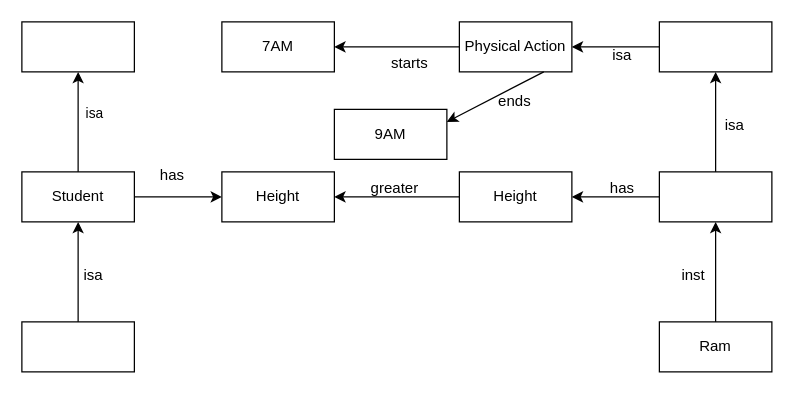
This 794x394 diagram has some shape labels left out. The centre of each missing label's shape, as x and y in pixels:
"Game" belongs at point 715,46.
"Person" belongs at point 77,46.
"Player" belongs at point 715,196.
"Subhash" belongs at point 77,346.
